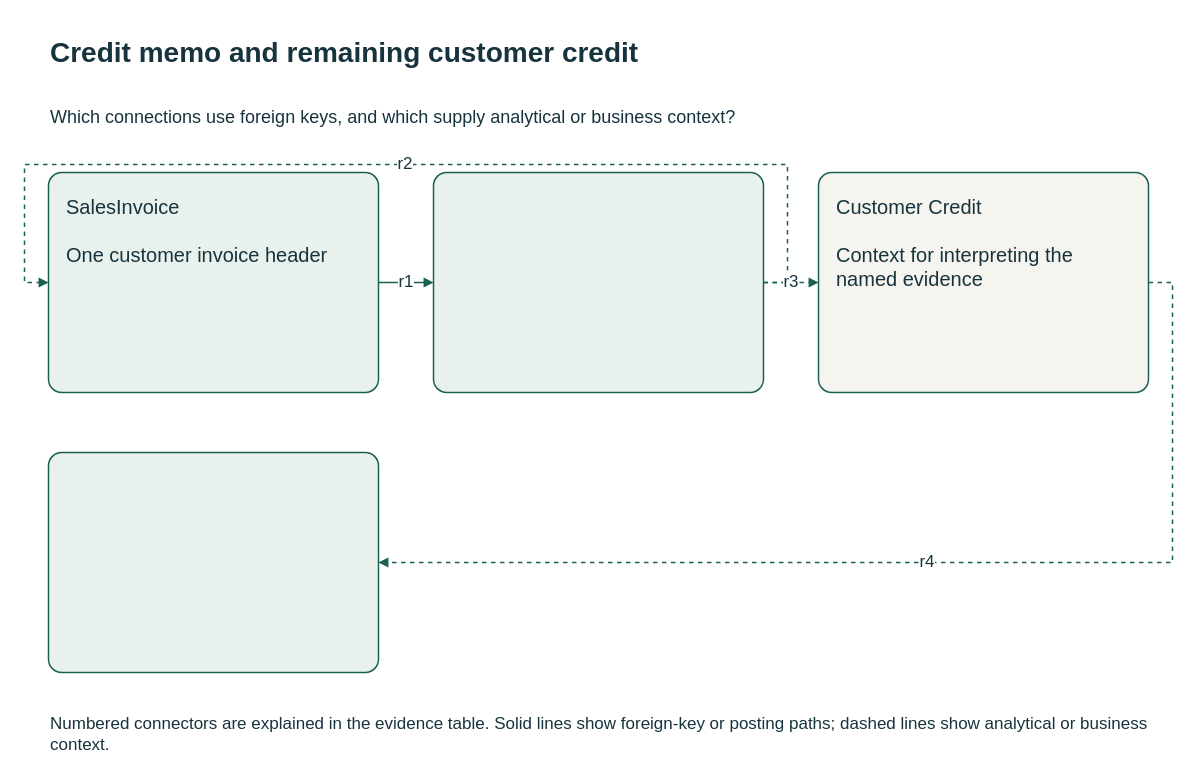
Some shapes in this 1199 by 781 pixel diagram are drawn without their labels. The shapes that lost their labels are listed below. From the top down, each one's centre as x and y in pixels, then its label:
At (x=598, y=282): "CreditMemo One customer credit-memo header".
At (x=213, y=562): "CustomerRefund One cash refund against a credit memo".
